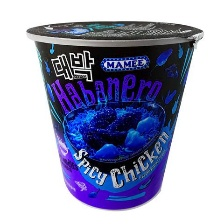paper_cup: (20, 15, 207, 214)
